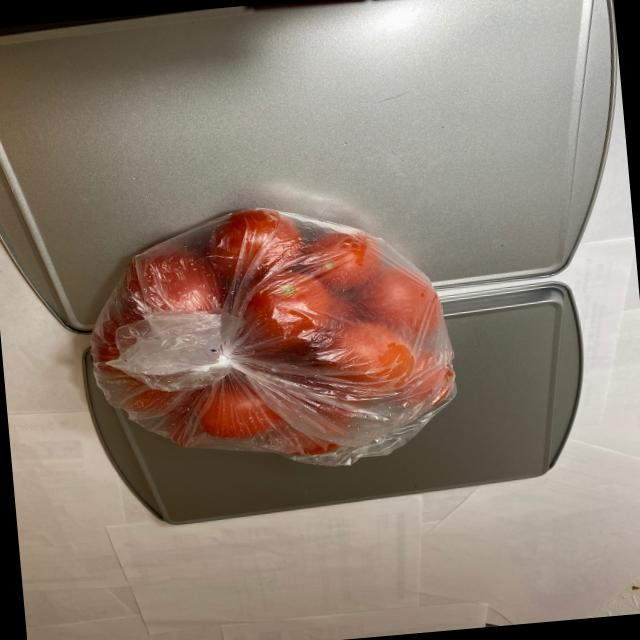tomato: (79, 192, 470, 472)
